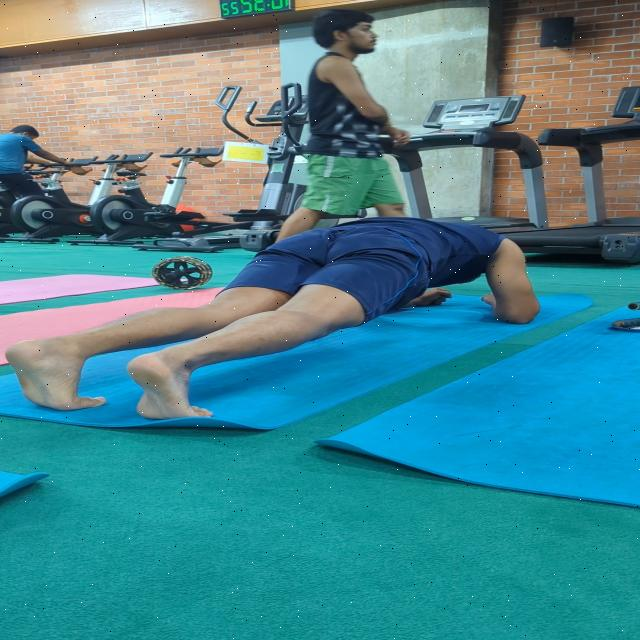Normal_Plunk: (0, 209, 540, 427)
